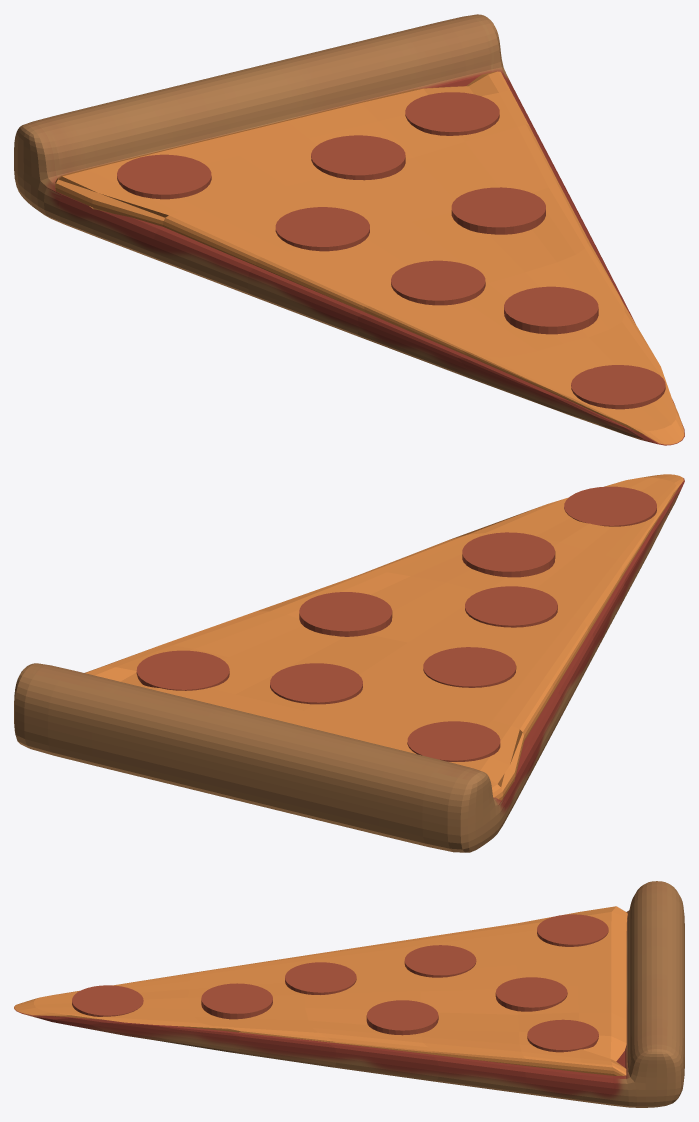
The model's file is Pizza2.0.fbx.
The picture shows the model from 3 angles, top to bottom: view 1: azimuth 30°, elevation 25°; view 2: azimuth 150°, elevation 25°; view 3: azimuth 270°, elevation 25°; orthographic projection. The views are drawn at different scales.
Parts seen in each view (by area): view 1: Cube.001, Cube, Cylinder.005, Cylinder.001, Cylinder, Cylinder.004, Cylinder.003, Cylinder.002, Cylinder.006, Cylinder.007; view 2: Cube.001, Cube, Cylinder.005, Cylinder.001, Cylinder.004, Cylinder, Cylinder.007, Cylinder.002, Cylinder.003, Cylinder.006; view 3: Cube.001, Cube, Cylinder.005, Cylinder.001, Cylinder, Cylinder.004, Cylinder.007, Cylinder.002, Cylinder.003, Cylinder.006.
Boxes of the visible parts, x1,y1,x2,y2 form: Cube.001: (55,71,684,444); Cube: (14,14,684,445); Cylinder.005: (504,286,598,334); Cylinder.001: (451,187,545,234); Cylinder: (311,135,405,180); Cylinder.004: (391,260,485,305); Cylinder.003: (117,154,211,199); Cylinder.002: (275,207,369,251); Cylinder.006: (571,365,665,409); Cylinder.007: (405,92,499,135); Cube.001: (85,474,683,800); Cube: (14,478,684,852); Cylinder.005: (462,532,555,577); Cylinder.001: (299,592,392,636); Cylinder.004: (465,586,557,627); Cylinder: (270,663,362,704); Cylinder.007: (136,650,229,690); Cylinder.002: (423,647,516,687); Cylinder.003: (407,721,500,761); Cylinder.006: (564,486,656,526); Cube.001: (14,906,627,1075); Cube: (14,881,684,1107); Cylinder.005: (201,983,272,1019); Cylinder.001: (366,1000,438,1035); Cylinder: (495,977,567,1011); Cylinder.004: (285,962,356,994); Cylinder.007: (527,1019,598,1052); Cylinder.002: (404,945,476,977); Cylinder.003: (537,914,608,946); Cylinder.006: (72,985,143,1016).
Bounding box in the file's own units: 463 × 77.47 × 760.
3 materials, 1 textured.
